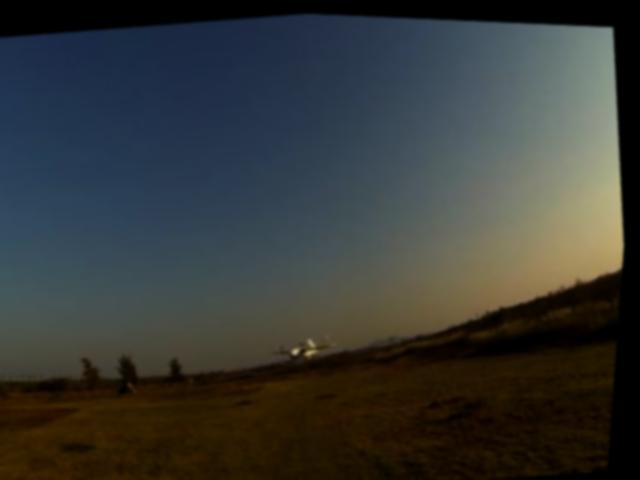uav: (261, 322, 346, 375)
